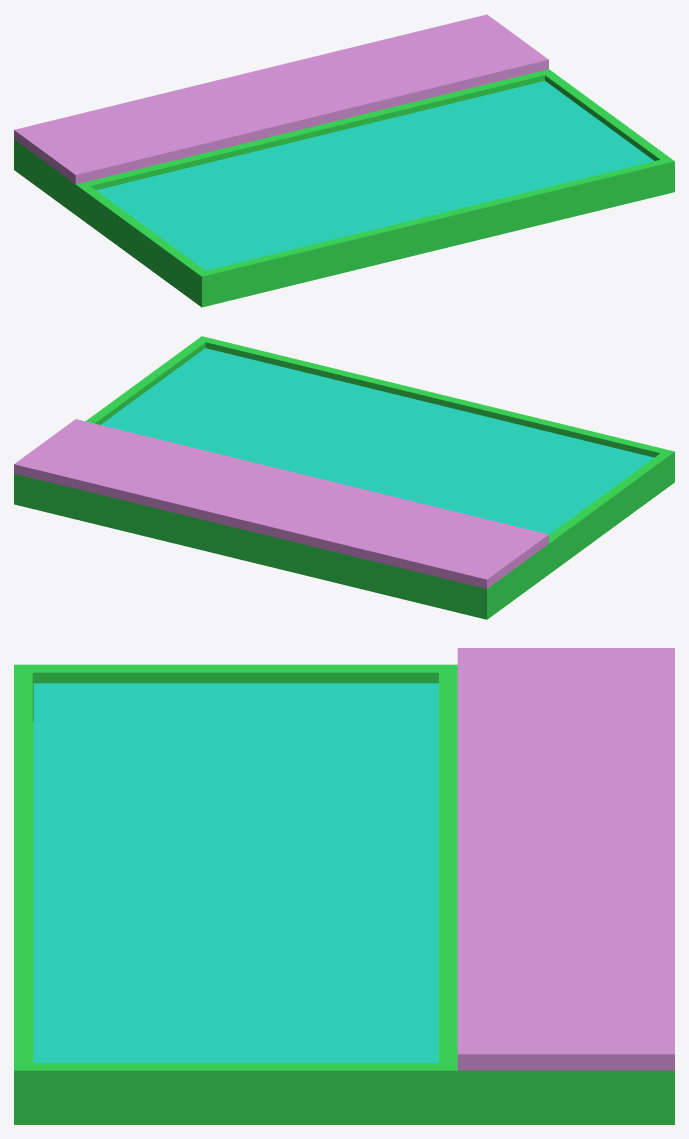
Rendered from Beer_Tabs_Base.fbx.
3 views of the same model, one above another, from view 1: azimuth 30°, elevation 25°; view 2: azimuth 150°, elevation 25°; view 3: azimuth 270°, elevation 25° (orthographic). The views are drawn at different scales.
Parts seen in each view (by area): view 1: Beer_Tabs_Base; view 2: Beer_Tabs_Base; view 3: Beer_Tabs_Base.
Part boxes in pixels (x1=…): Beer_Tabs_Base: x1=14, y1=14, x2=674, y2=307; Beer_Tabs_Base: x1=14, y1=336, x2=674, y2=619; Beer_Tabs_Base: x1=14, y1=648, x2=674, y2=1124.
Size of the model in its own units: 60.96 by 4.94 by 41.92.
